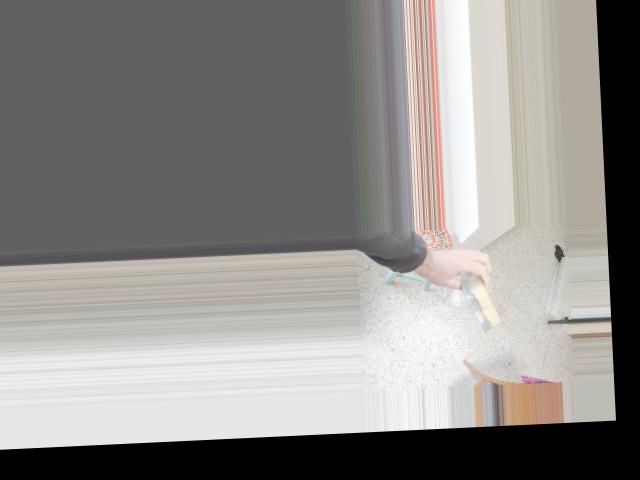cheese: (442, 239, 523, 338)
